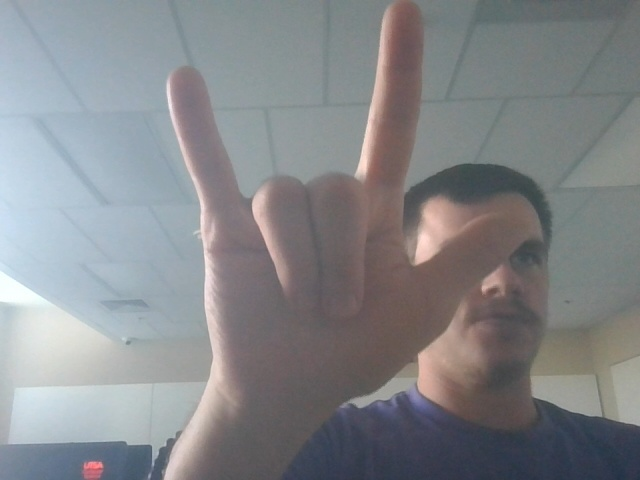iloveyou: (174, 5, 527, 414)
